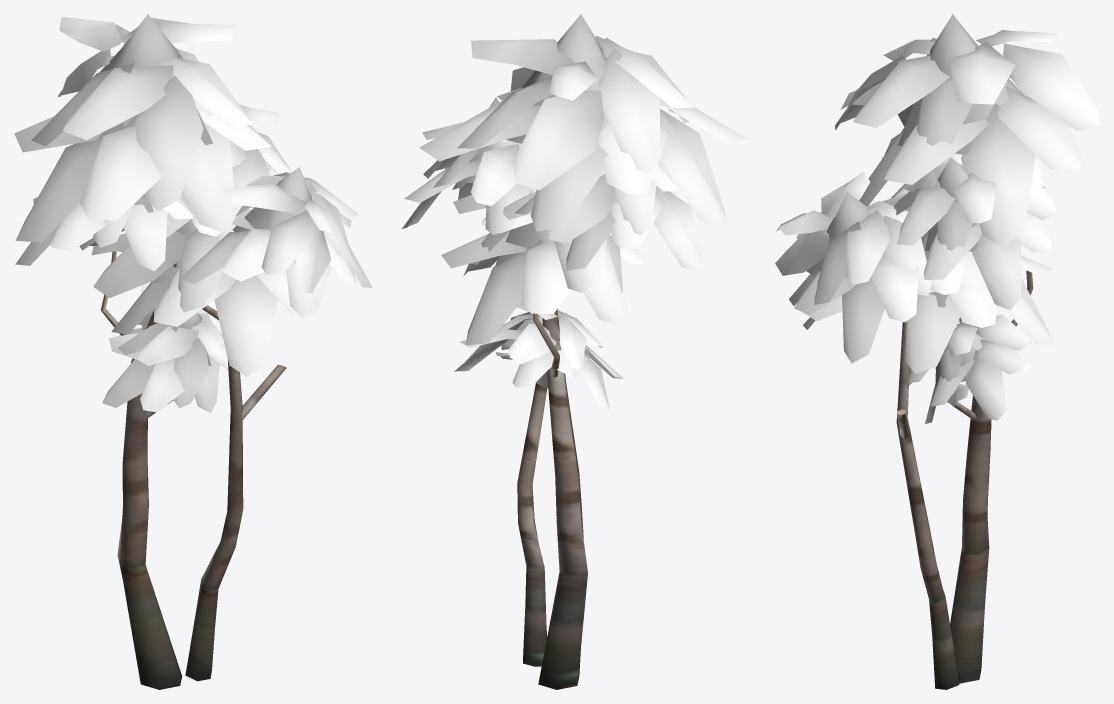
Rendered from Birch_5.FBX.
3 views of the same model, side by side, from view 1: azimuth 30°, elevation 25°; view 2: azimuth 150°, elevation 25°; view 3: azimuth 270°, elevation 25° (orthographic). The views are drawn at different scales.
Visible parts, largest first — view 1: birch, base, stub1, stub2; view 2: birch, base, stub1, stub2; view 3: birch, base, stub1, stub2.
Boxes of the visible parts, x1,y1,x2,y2 form: birch: (14,14,372,590); base: (129,608,214,689); stub1: (118,557,160,619); stub2: (195,580,218,629); birch: (402,14,746,575); base: (523,607,583,689); stub1: (551,571,587,623); stub2: (525,566,545,610); birch: (775,14,1099,603); base: (932,600,984,689); stub1: (954,548,989,609); stub2: (929,596,951,640).
Size of the model in its own units: 590 by 1192 by 538.
